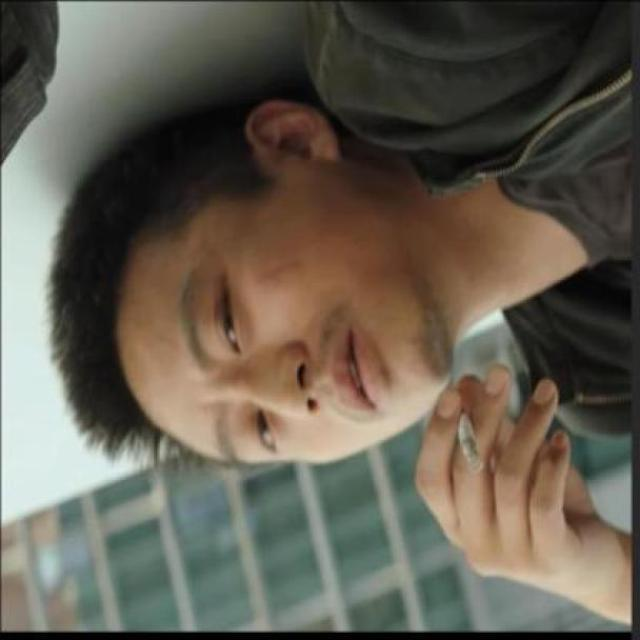rokok: (456, 412, 486, 482)
